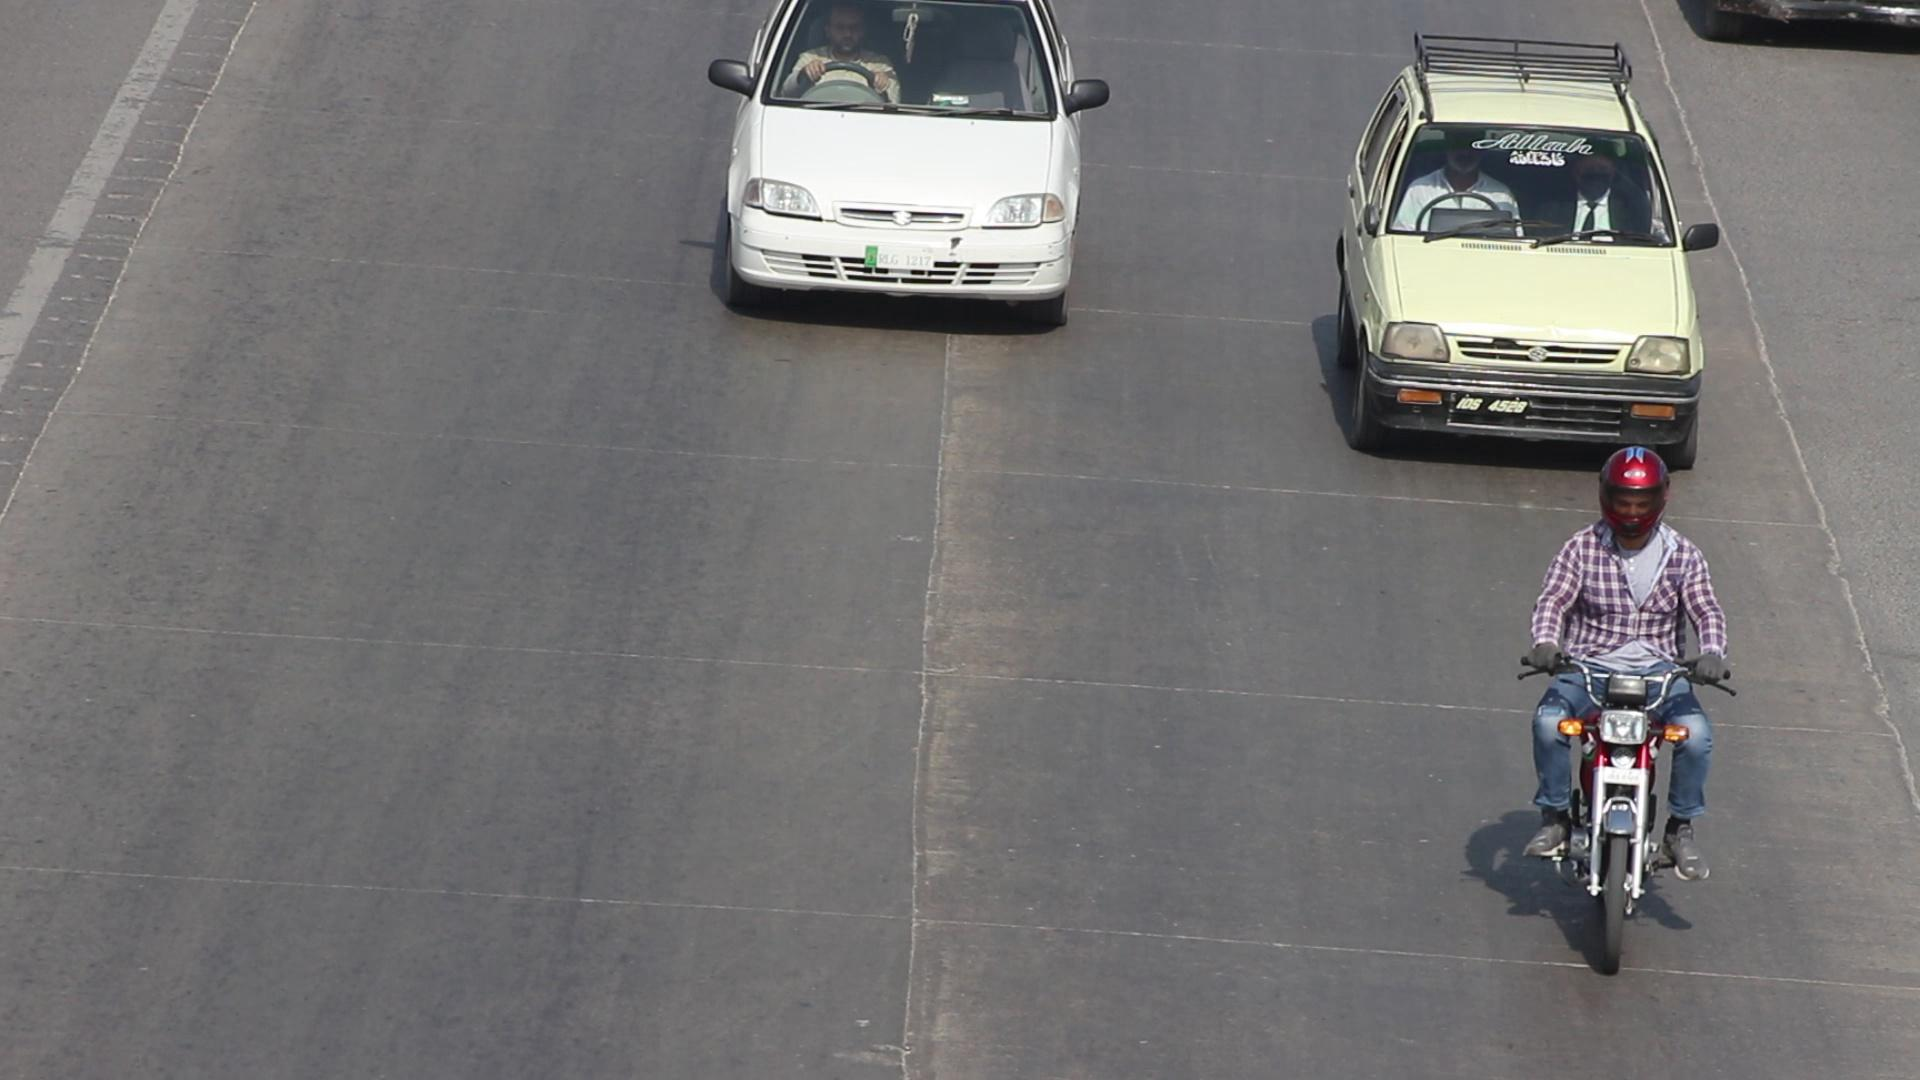windshield: (1377, 109, 1684, 253)
